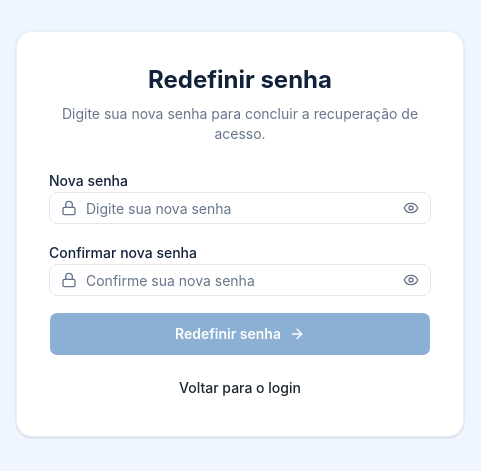
Test case: PasswordReset › mostra erro retornado pela mutation
Type "12345678" into the password field with placeholder "Digite sua nova senha" at (240, 208), box [49, 192, 431, 224]
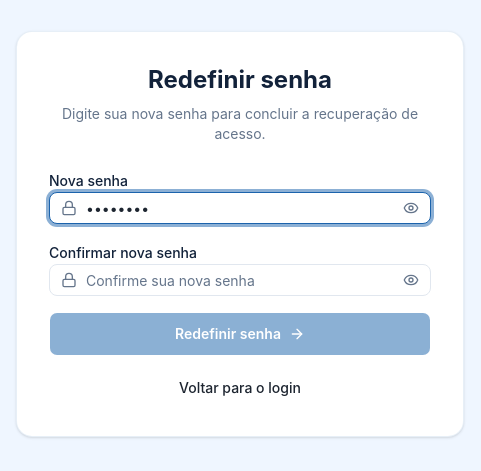
Type "12345678" into the password field with placeholder "Confirme sua nova senha" at (240, 280), box [49, 264, 431, 296]
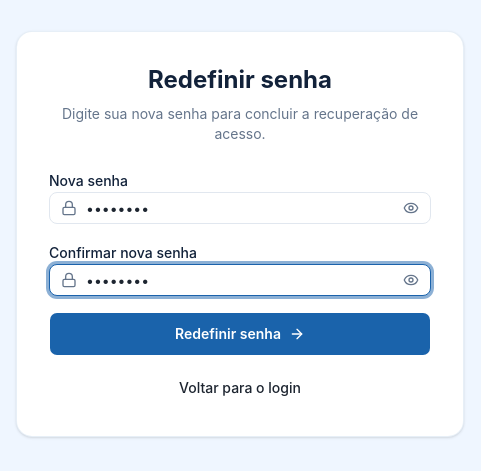
Click the button "Redefinir senha" at (240, 334), box [49, 312, 431, 356]
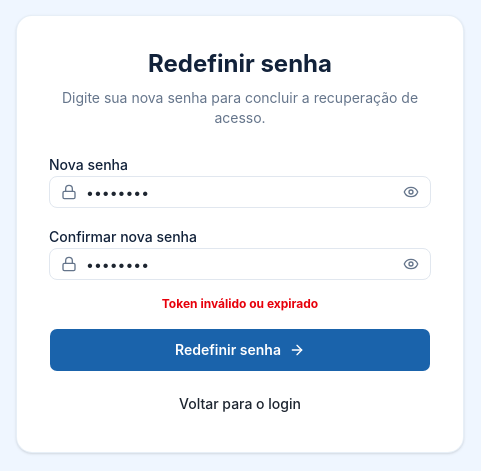
Now the text "Token inválido ou expirado" is shown, box [162, 296, 318, 311]
